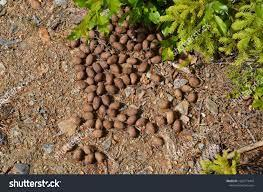Elk: (86, 37, 117, 135), (118, 19, 157, 83)
